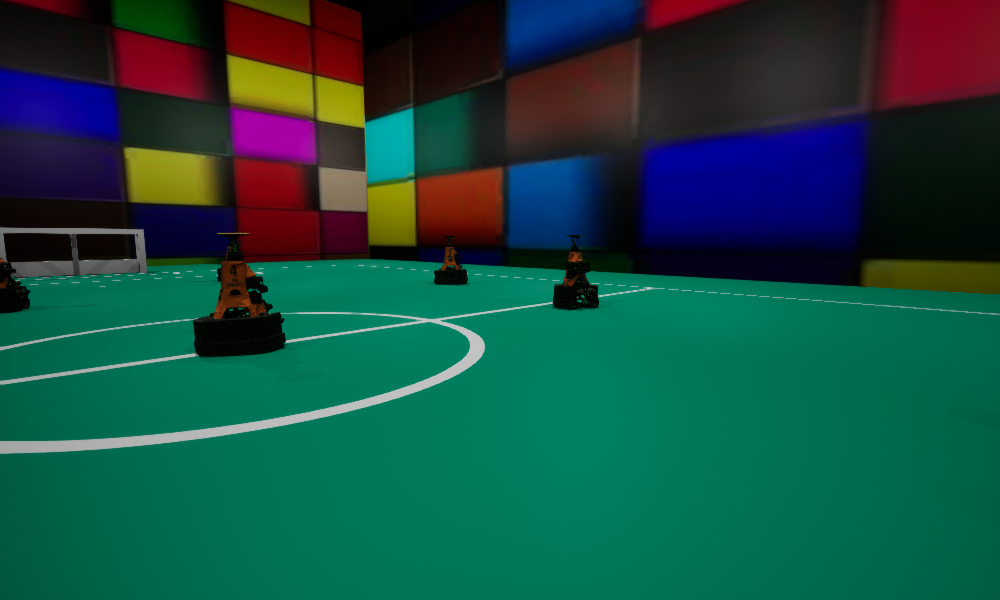o: (193, 233, 285, 356), (553, 235, 598, 309), (0, 235, 30, 312), (434, 236, 467, 284), (217, 237, 249, 281)
